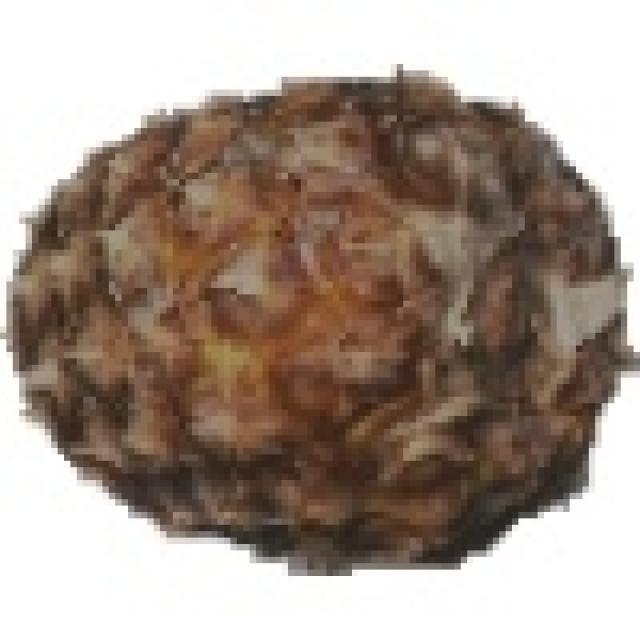pineapple: (6, 64, 614, 557)
